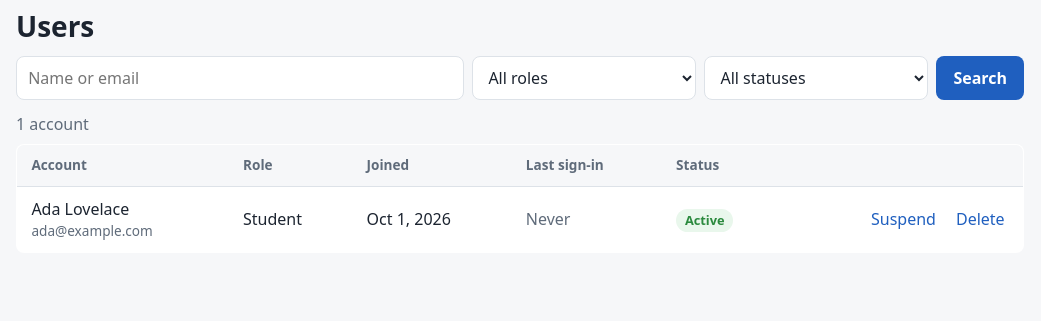
Test case: UsersPage (US-12) › deletes with a reason
Click the button "Delete" at (980, 219), box 952,203 -> 1009,235
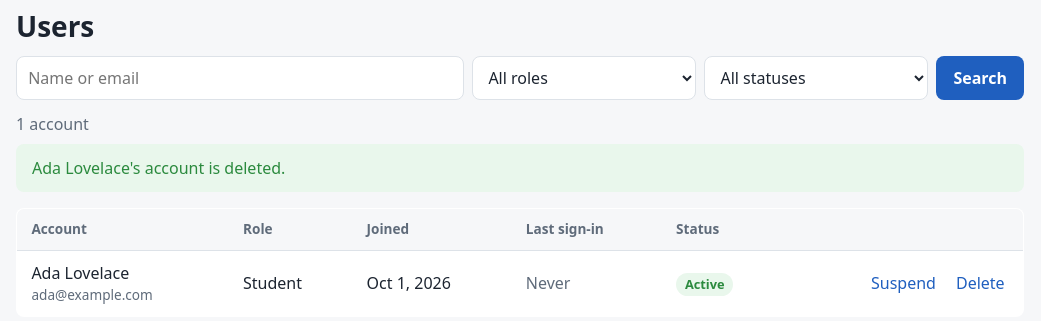
Now the text "Ada Lovelace's account is deleted." is shown, box 16,144 -> 1024,192
